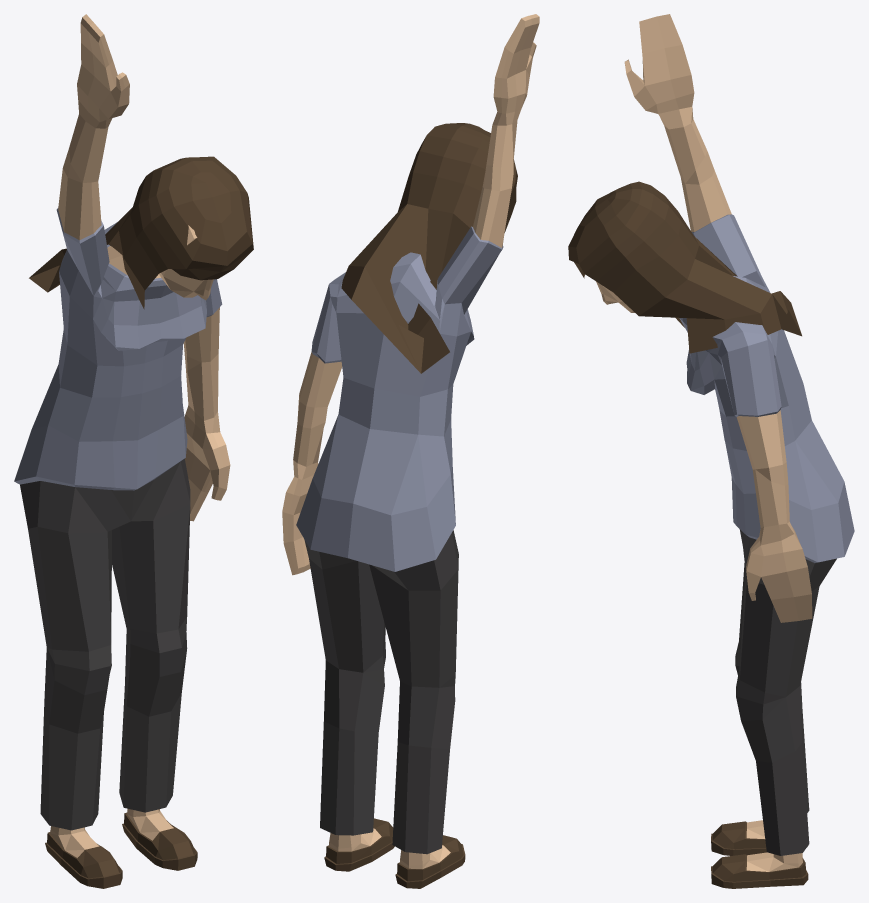
The model's file is Female_Crowd_HeadBanging.glb.
3 views of the same model, side by side, from view 1: azimuth 30°, elevation 25°; view 2: azimuth 150°, elevation 25°; view 3: azimuth 270°, elevation 25° (orthographic). The views are drawn at different scales.
Parts seen in each view (by area): view 1: Female_Crowd_HeadBanging; view 2: Female_Crowd_HeadBanging; view 3: Female_Crowd_HeadBanging.
Part boxes in pixels (<box>): Female_Crowd_HeadBanging: <box>14,14,253,888</box>; Female_Crowd_HeadBanging: <box>282,14,539,888</box>; Female_Crowd_HeadBanging: <box>568,14,854,888</box>.
Bounding box in the file's own units: 0.4349 × 1.96 × 0.6255.
